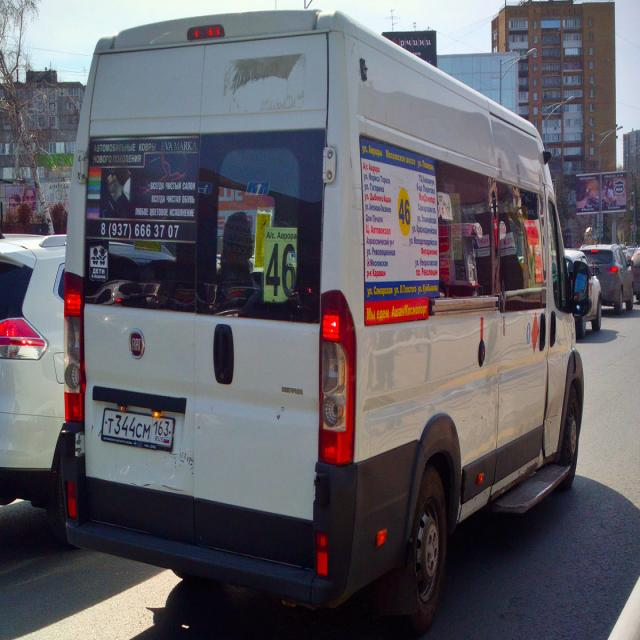number-of-bus: (266, 241, 302, 306), (399, 197, 413, 227)
